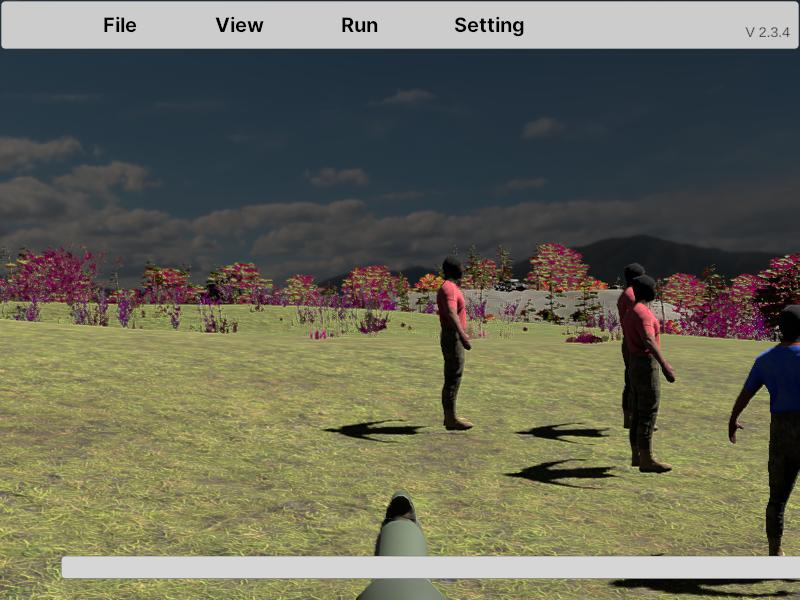Human: (728, 301, 800, 560), (624, 272, 676, 474), (439, 256, 474, 432)
